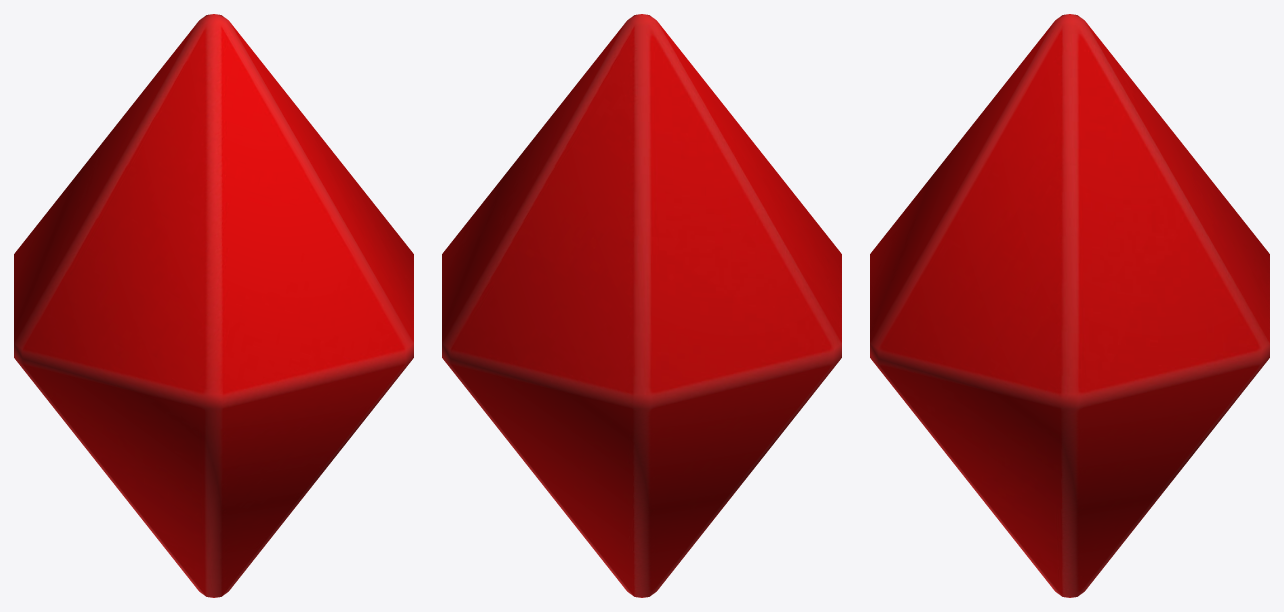
Rendered from gem-red.glb.
3 renders of one model, left to right at view 1: azimuth 30°, elevation 25°; view 2: azimuth 150°, elevation 25°; view 3: azimuth 270°, elevation 25°, orthographic.
Parts seen in each view (by area): view 1: Gem01_Red_Gem01_Red_0; view 2: Gem01_Red_Gem01_Red_0; view 3: Gem01_Red_Gem01_Red_0.
Part boxes in pixels (<box>): Gem01_Red_Gem01_Red_0: <box>14,14,413,597</box>; Gem01_Red_Gem01_Red_0: <box>442,14,841,597</box>; Gem01_Red_Gem01_Red_0: <box>870,14,1269,597</box>.
Bounding box in the file's own units: 0.2406 × 0.3433 × 0.2129.
1 material, 1 textured.
